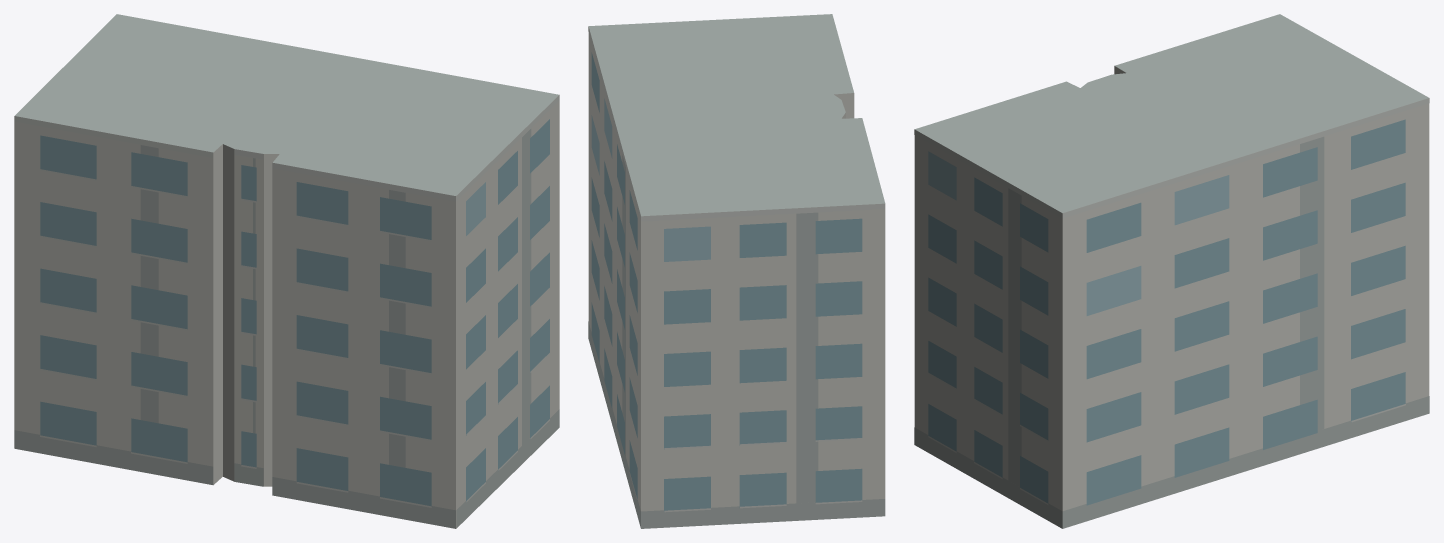
File: survey-upis-32801481.glb
The picture shows the model from 3 angles, left to right: view 1: azimuth 30°, elevation 25°; view 2: azimuth 150°, elevation 25°; view 3: azimuth 270°, elevation 25°; orthographic projection. The views are drawn at different scales.
Parts seen in each view (by area): view 1: survey-upis-32801481.tmp; view 2: survey-upis-32801481.tmp; view 3: survey-upis-32801481.tmp.
Part boxes in pixels (x1,y1,x2,y2): survey-upis-32801481.tmp: (14, 14, 559, 528); survey-upis-32801481.tmp: (588, 14, 885, 528); survey-upis-32801481.tmp: (914, 14, 1429, 528).
Bounding box in the file's own units: 18.83 × 13.9 × 20.56.
